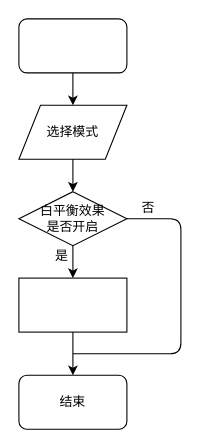
The diagram is 201 pixels wide and 448 high, and some of its shapes have lost their labels. The centre of each missing label's shape, as x and y in pixels:
对图像采取相 应的处理算法: (72,304)
开始: (72,45)
